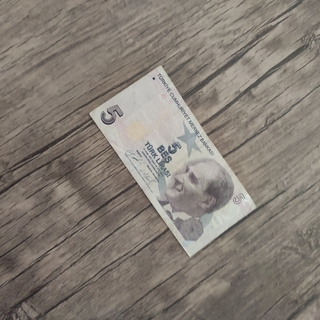5TLFront: (88, 65, 256, 258)
